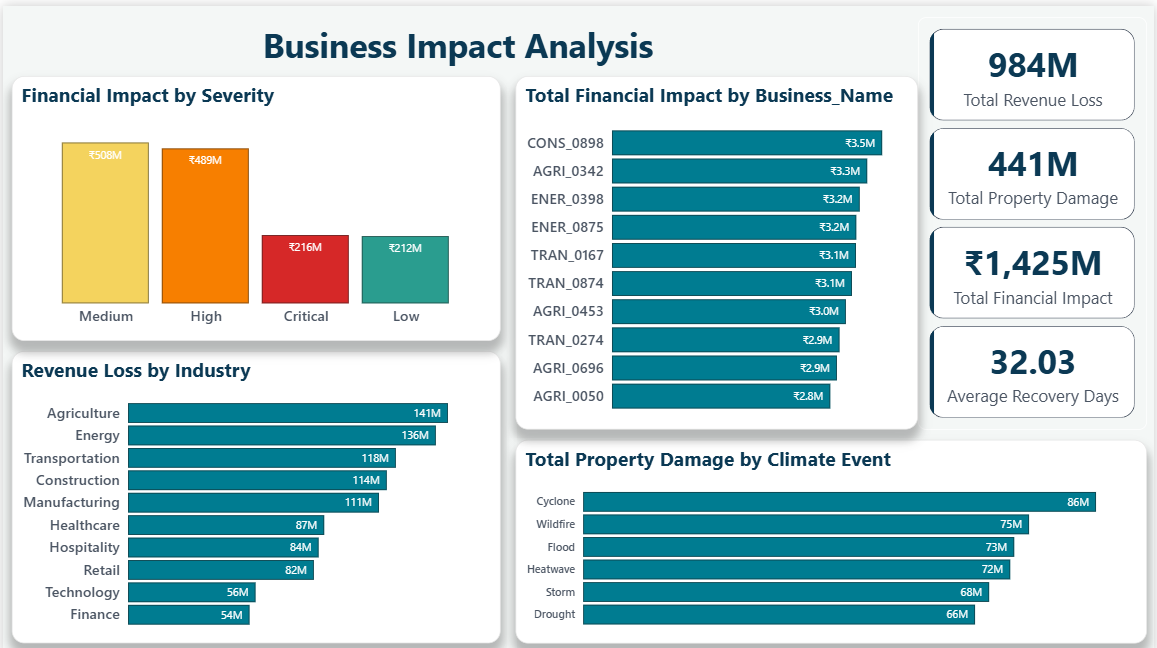

What the dashboard file says about the page in this screenshot:
{"tool":"powerbi","page":{"name":"Business Impact Analysis","canvas":[1280,720],"ordinal":2},"visuals":[{"type":"textbox","box":[9.7,12.5,991.7,65.3],"z":0},{"type":"cardVisual","fields":{"Data":["Climate_Risk_and_Business_Impact_Dataset.Total Revenue Loss","Climate_Risk_and_Business_Impact_Dataset.Total Property Damage","Climate_Risk_and_Business_Impact_Dataset.Total Financial Impact","Climate_Risk_and_Business_Impact_Dataset.Average Recovery Days"]},"box":[1016.7,12.5,254.2,458.3],"z":1000},{"type":"clusteredBarChart","title":"Revenue Loss by Industry","fields":{"Category":["Climate_Risk_and_Business_Impact_Dataset.Industry"],"Y":["Climate_Risk_and_Business_Impact_Dataset.Total Revenue Loss"]},"box":[9.7,383.3,543.1,325],"z":2000},{"type":"clusteredColumnChart","title":"Financial Impact by Severity","fields":{"Category":["Climate_Risk_and_Business_Impact_Dataset.Severity"],"Y":["Climate_Risk_and_Business_Impact_Dataset.Total Financial Impact"]},"box":[9.7,77.8,543.1,294.4],"z":3000},{"type":"clusteredBarChart","title":"Total Property Damage by Climate Event","fields":{"Category":["Climate_Risk_and_Business_Impact_Dataset.Climate_Event"],"Y":["Climate_Risk_and_Business_Impact_Dataset.Total Property Damage"]},"box":[569.4,481.9,701.4,226.4],"z":4000},{"type":"clusteredBarChart","fields":{"Category":["Climate_Risk_and_Business_Impact_Dataset.Business_Name"],"Y":["Climate_Risk_and_Business_Impact_Dataset.Total Financial Impact"]},"box":[569.4,77.8,447.2,393.1],"z":5000}]}

Visuals, with their boxes in screenshot pixels (x1, y1, x2, y2), scaled from the page's 1280x720 canvas onto the 1157x648 screenshot:
textbox: l=9, t=11, r=905, b=70
cardVisual - Climate_Risk_and_Business_Impact_Dataset.Total Revenue Loss x Climate_Risk_and_Business_Impact_Dataset.Total Property Damage: l=919, t=11, r=1149, b=424
"Revenue Loss by Industry" clusteredBarChart: l=9, t=345, r=500, b=637
"Financial Impact by Severity" clusteredColumnChart: l=9, t=70, r=500, b=335
"Total Property Damage by Climate Event" clusteredBarChart: l=515, t=434, r=1149, b=637
clusteredBarChart - Climate_Risk_and_Business_Impact_Dataset.Business_Name x Climate_Risk_and_Business_Impact_Dataset.Total Financial Impact: l=515, t=70, r=919, b=424
